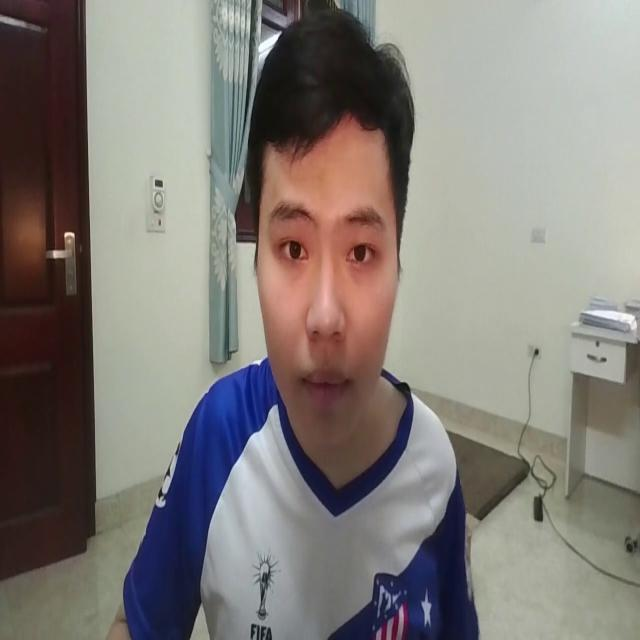student: (94, 6, 494, 640)
